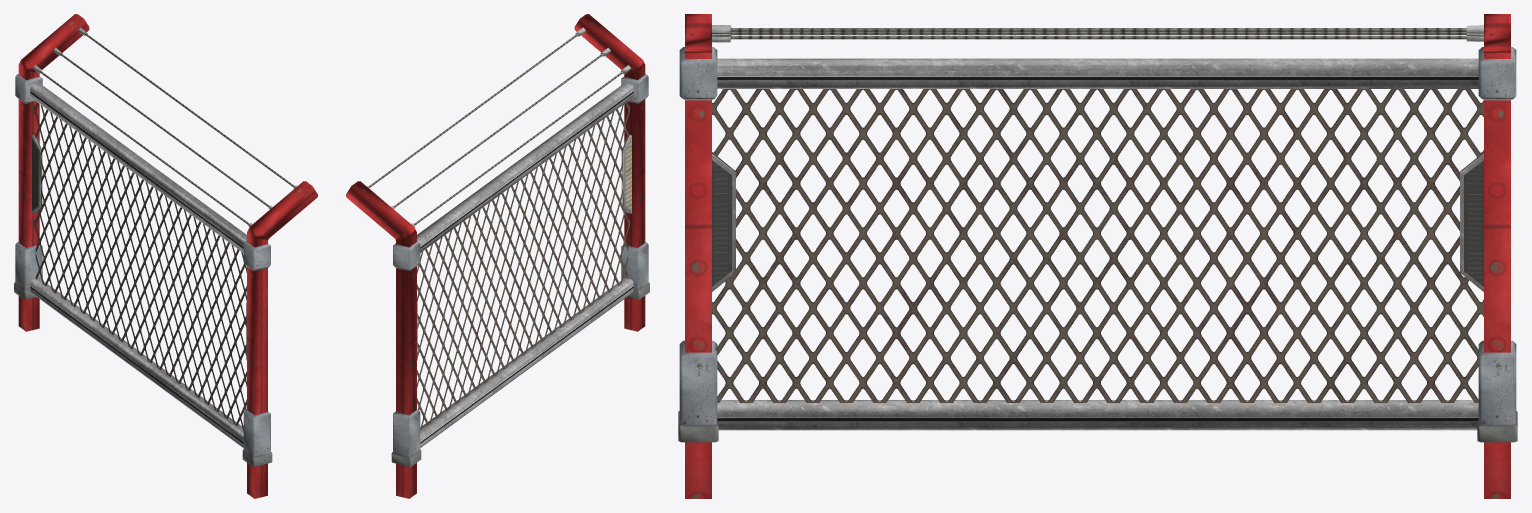
The model's file is Ob_Fence_RC.fbx.
The picture shows the model from 3 angles, left to right: view 1: azimuth 30°, elevation 25°; view 2: azimuth 150°, elevation 25°; view 3: azimuth 270°, elevation 25°; orthographic projection. The views are drawn at different scales.
Visible parts, largest first — view 1: Ob_Fence_RC; view 2: Ob_Fence_RC; view 3: Ob_Fence_RC.
Boxes of the visible parts, x1,y1,x2,y2 form: Ob_Fence_RC: [14, 14, 317, 498]; Ob_Fence_RC: [346, 14, 649, 498]; Ob_Fence_RC: [678, 14, 1517, 498].
Size of the model in its own units: 152 by 644 by 939.
